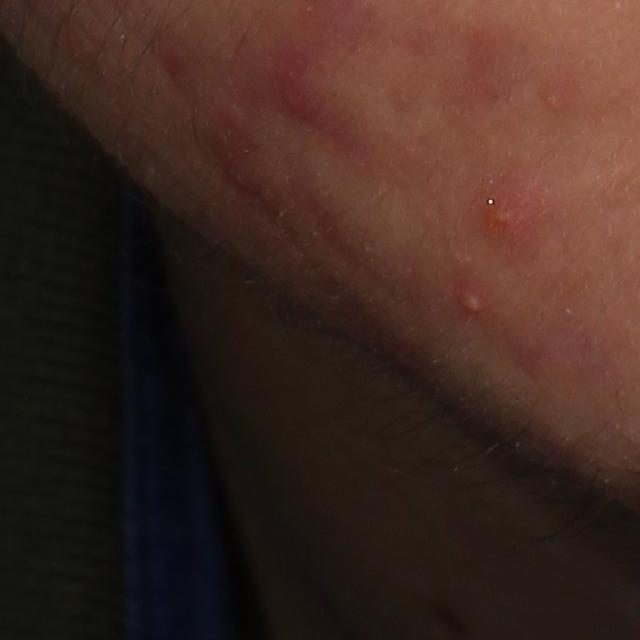papule: (473, 175, 550, 266), (208, 110, 271, 203)
pustule: (442, 277, 498, 330)
